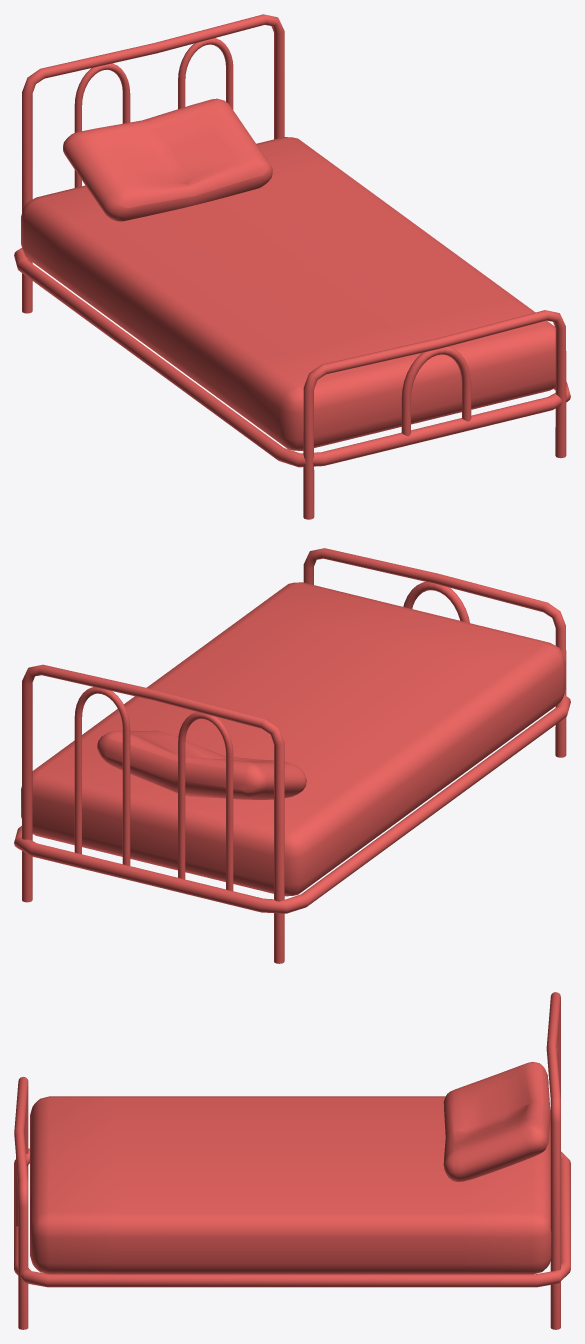
Rendered from Bed.fbx.
The picture shows the model from 3 angles, top to bottom: view 1: azimuth 30°, elevation 25°; view 2: azimuth 150°, elevation 25°; view 3: azimuth 270°, elevation 25°; orthographic projection. The views are drawn at different scales.
Parts seen in each view (by area): view 1: Bed; view 2: Bed; view 3: Bed.
Part boxes in pixels (left/top/right/bottom): Bed: left=14, top=14, right=570, bottom=519; Bed: left=14, top=548, right=570, bottom=963; Bed: left=14, top=992, right=570, bottom=1329.
Bounding box in the file's own units: 117 × 91.11 × 204.
